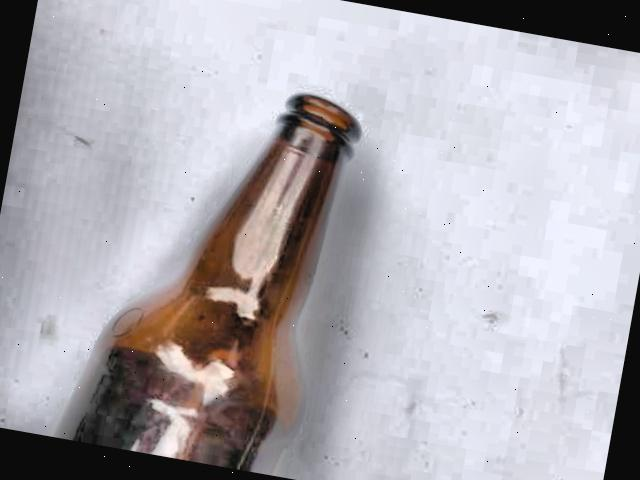Bottles: (38, 28, 413, 480)
